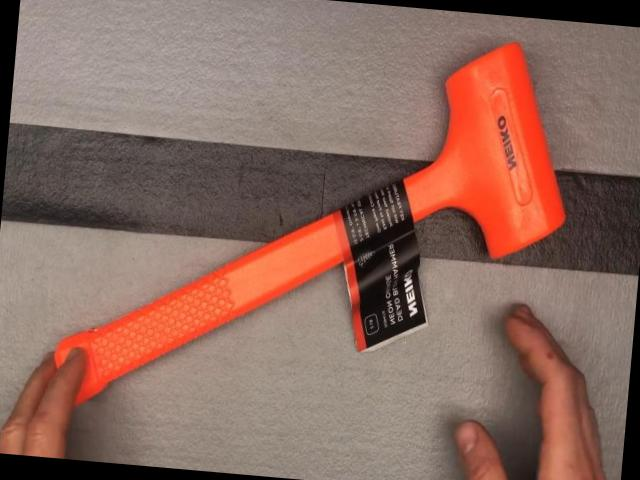hammer: (47, 3, 581, 445)
